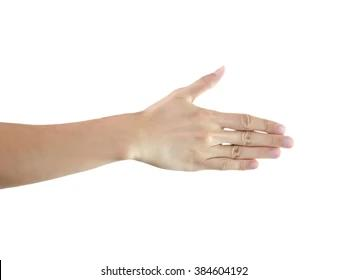paper: (131, 62, 295, 187)
